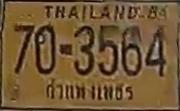0: (34, 23, 56, 74)
3: (73, 24, 94, 74)
4: (145, 24, 165, 76)
5: (98, 24, 118, 75)
6: (120, 25, 142, 75)
7: (13, 24, 34, 72)
KPT: (43, 77, 138, 104)
